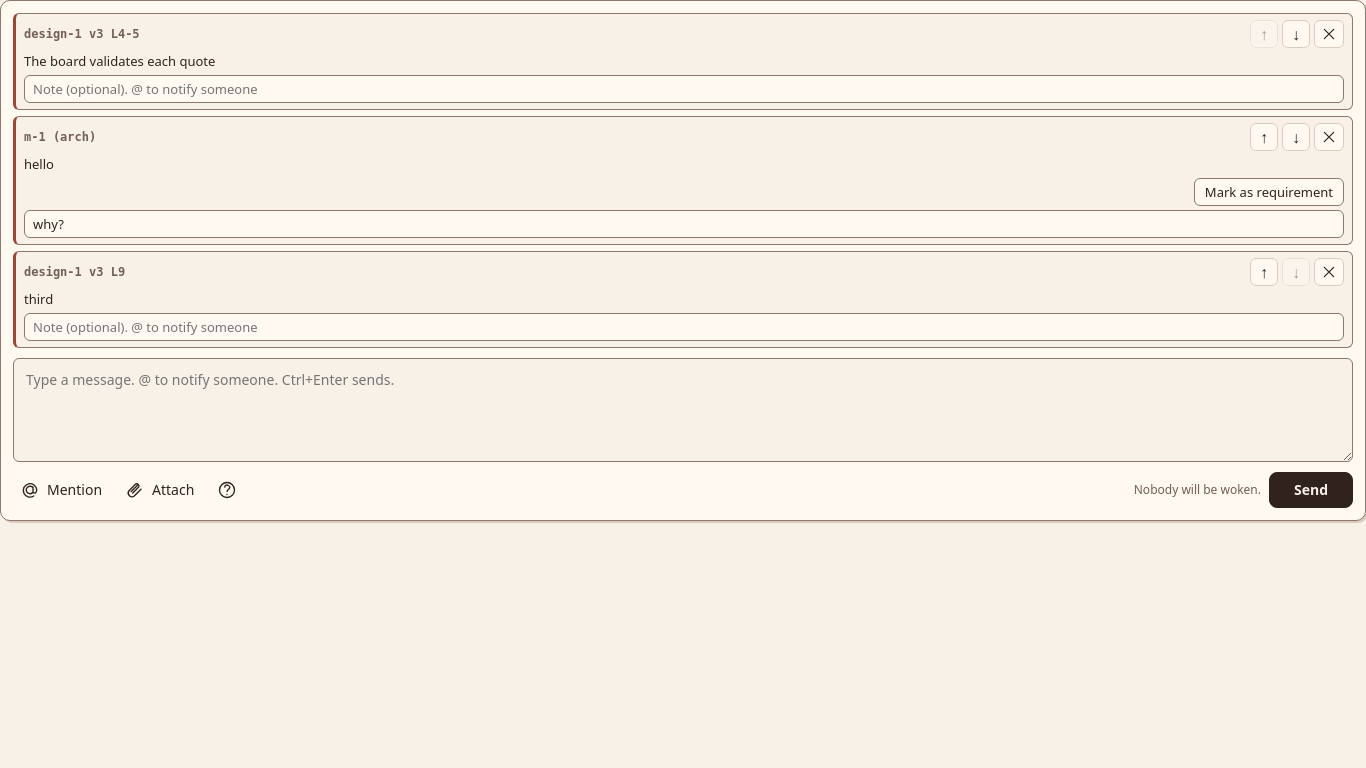
Scenario: Composer with quotes › shows the thread's chips, reorders and removes them, and sends quotes[] in chip order with notes
Check: the number of list items with test id "quote-chip" is 3, box [13,13,1353,110]; [13,116,1353,245]; [13,251,1353,348]
Click the button with test id "quote-chip-down" in the row of "design-1 v3 L4-5".
click(1296, 34)  # box [1282,20,1310,48]
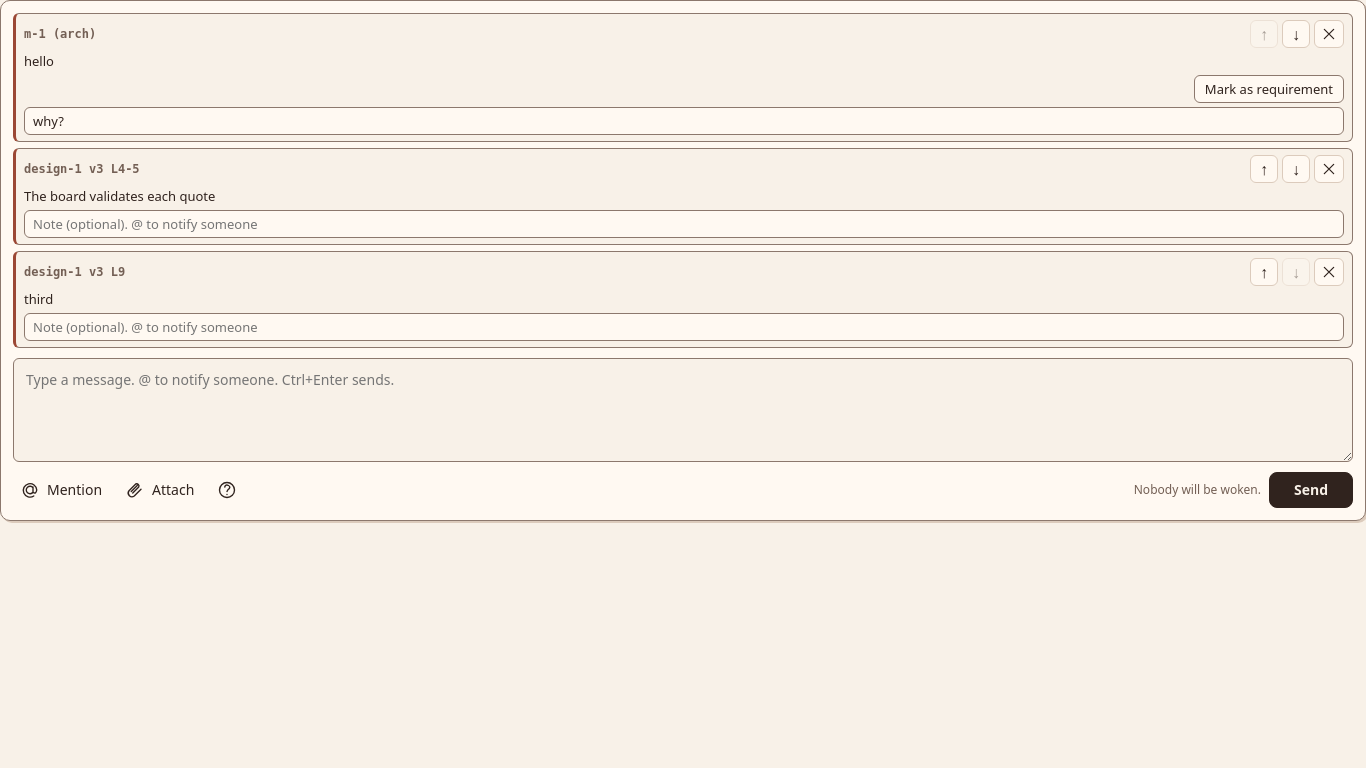
Click the 3rd button with test id "quote-chip-remove".
click(1329, 272)  # box [1314,258,1344,286]
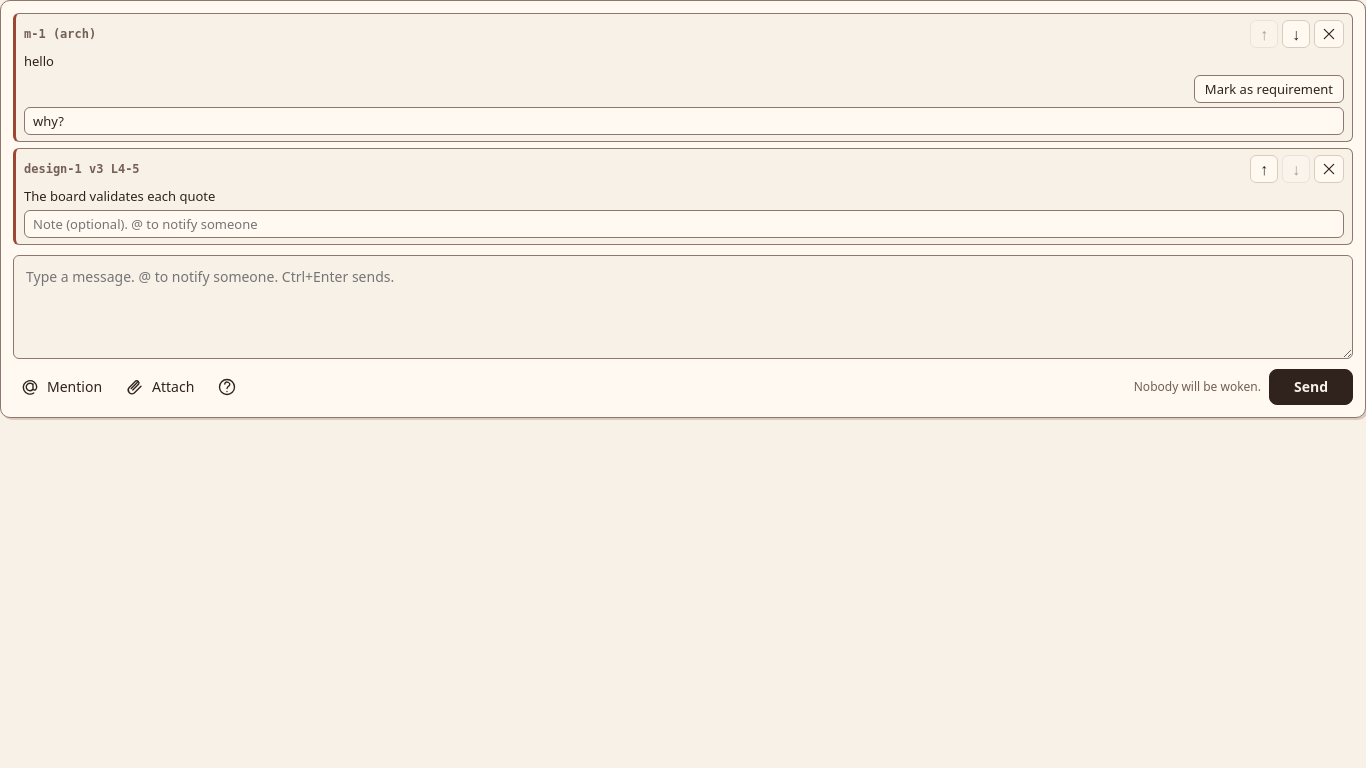
Type "see here" into the 2nd dropdown with test id "quote-chip-note".
click(684, 224); type("see here")  # box [24,210,1344,238]
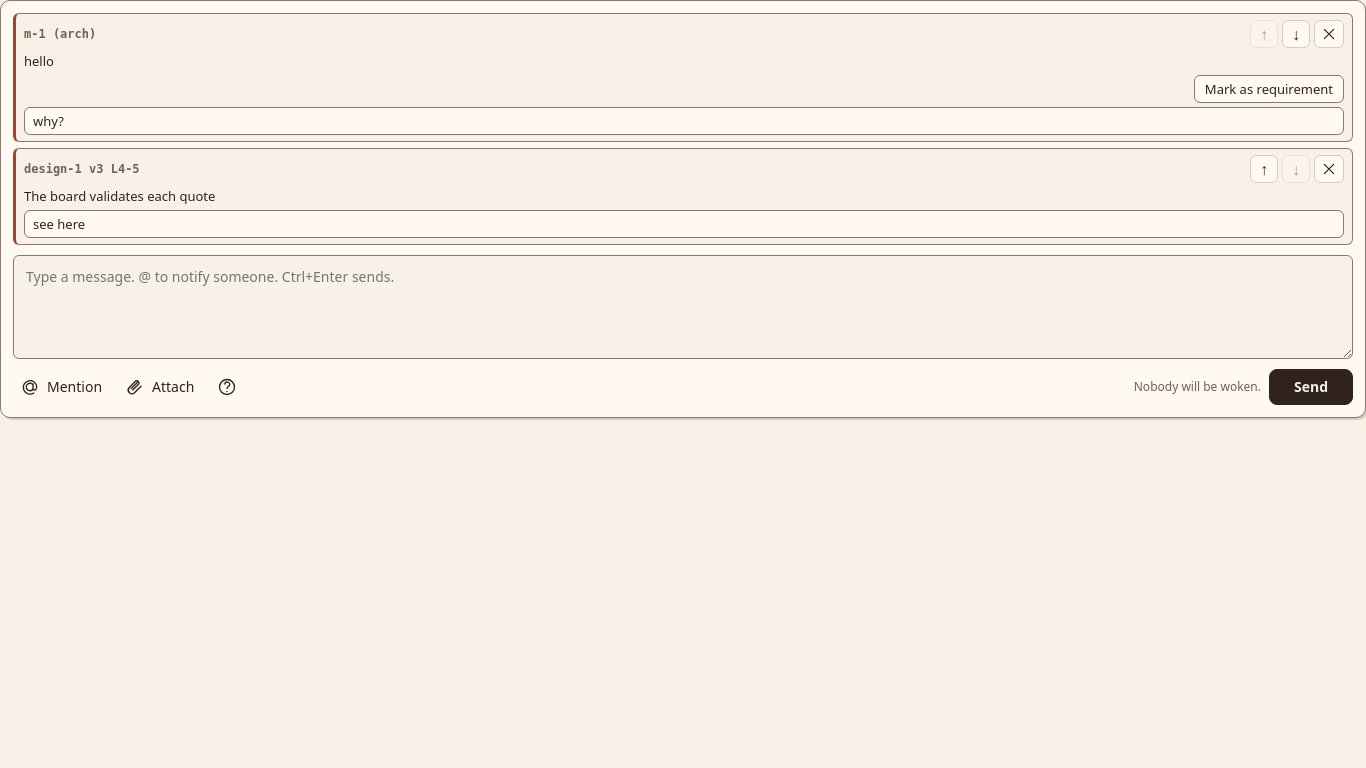
Check: the elements with test id "quote-chip-label" read "m-1 (arch)", "design-1 v3 L4-5", in this order, box [24,27,96,41]; [24,162,140,176]
Type "My reply" into the text box with test id "composer-text".
click(683, 307); type("My reply")  # box [13,255,1353,359]
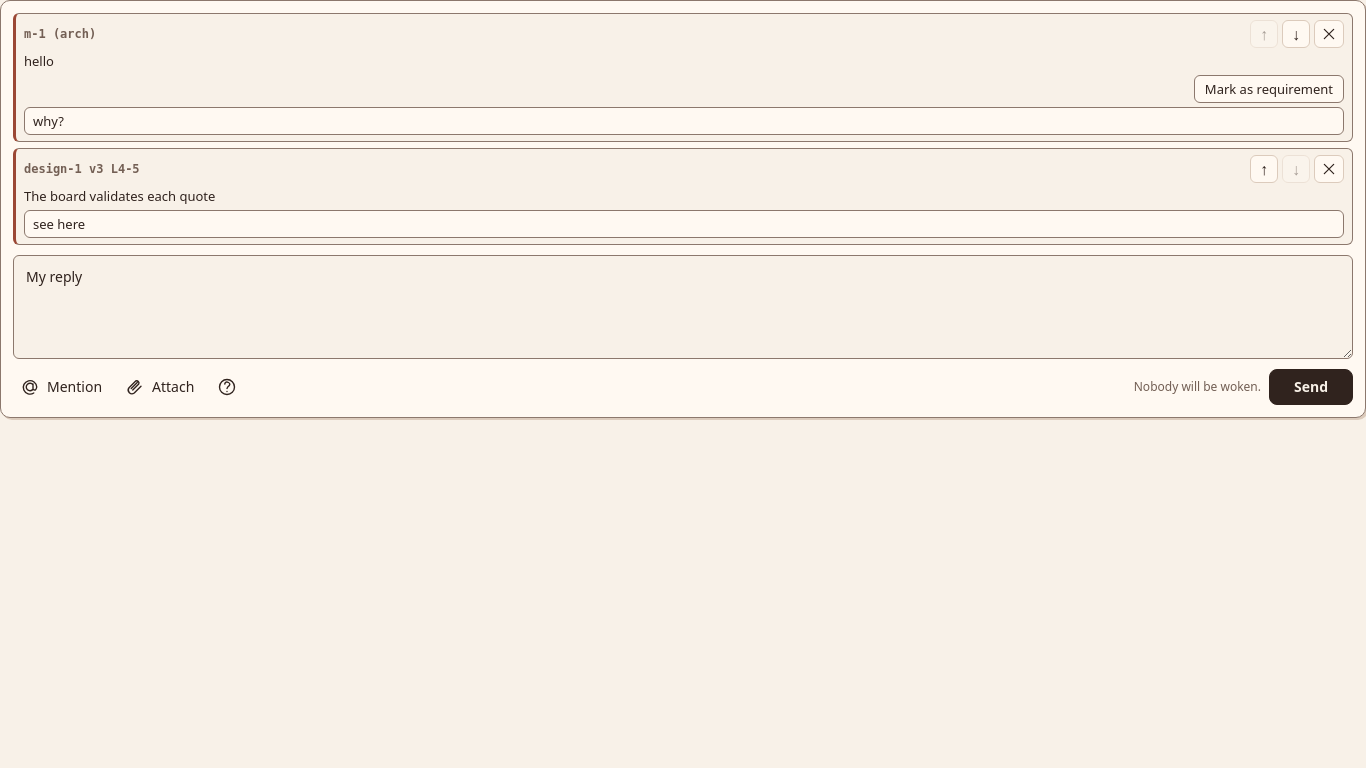
Click the button with test id "composer-send".
click(1311, 387)  # box [1269,369,1353,405]
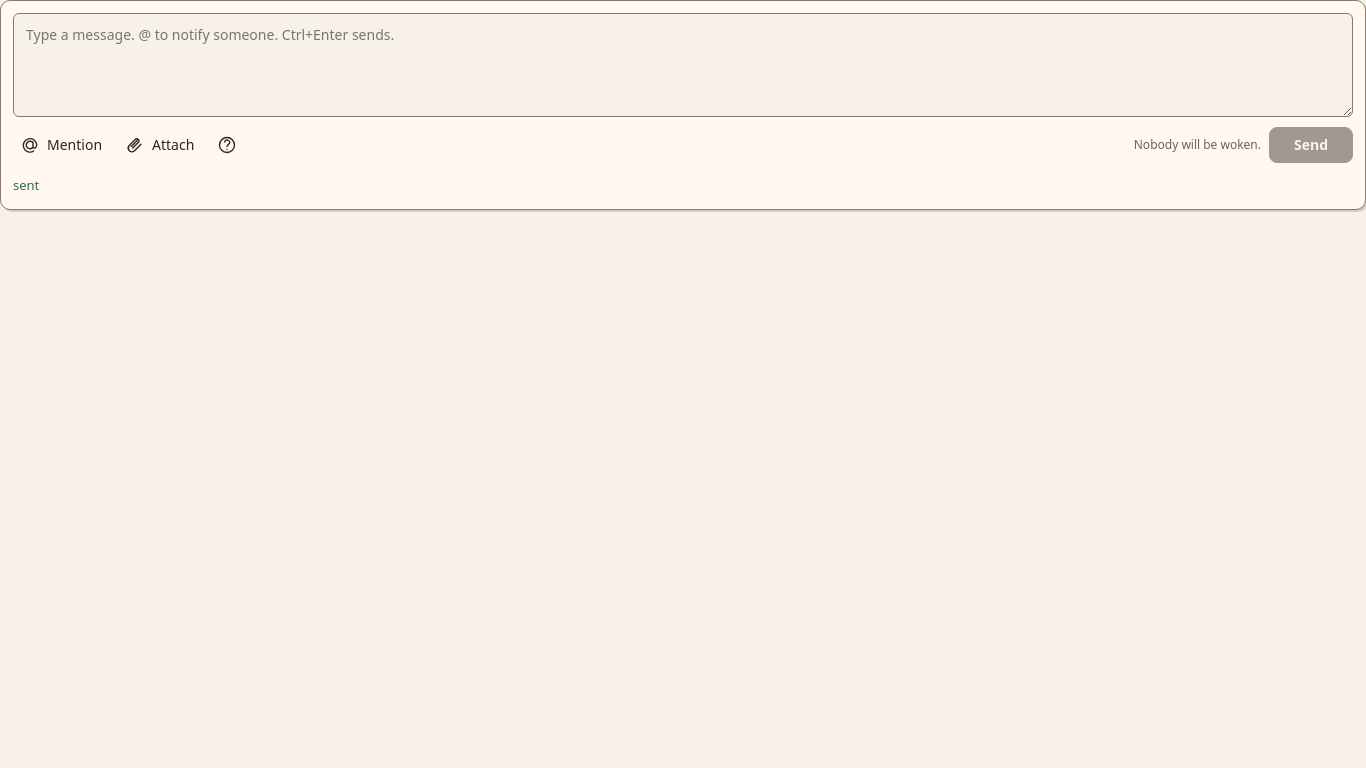
Check: no list items with test id "quote-chip" are shown
